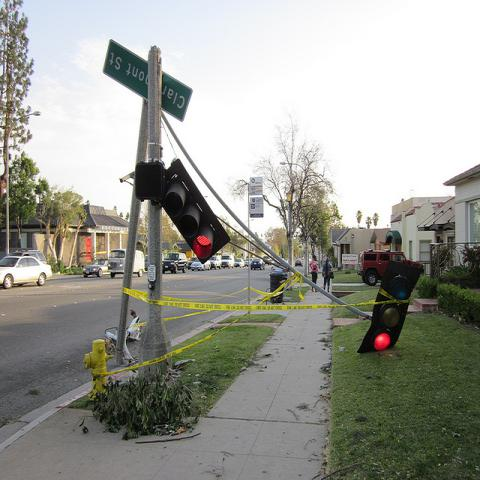car: (13, 243, 290, 288), (0, 255, 53, 288), (162, 252, 188, 274), (82, 258, 110, 278), (191, 258, 211, 270), (250, 258, 266, 271), (209, 256, 222, 270), (234, 258, 245, 269), (188, 257, 197, 270), (294, 259, 304, 269), (244, 258, 253, 268), (144, 255, 147, 271)
truck: (356, 247, 426, 284), (220, 254, 234, 269)
